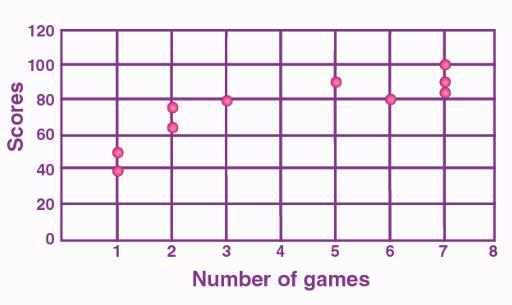axis: (56, 236, 502, 244), (56, 23, 67, 247)
point: (216, 94, 239, 108), (382, 91, 399, 109), (110, 144, 127, 161), (109, 163, 128, 178), (438, 85, 455, 101), (437, 57, 454, 73), (437, 76, 456, 90), (164, 121, 180, 137), (165, 102, 183, 115), (327, 75, 344, 88)
